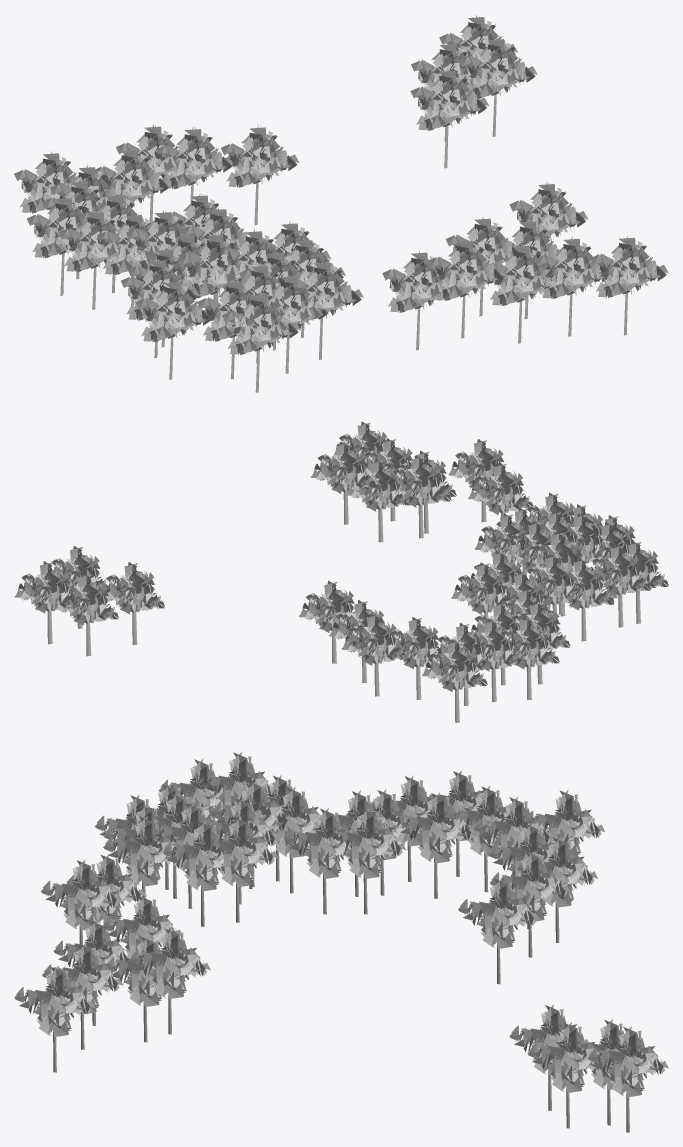
The model's file is small trees.fbx.
3 views of the same model, one above another, from view 1: azimuth 30°, elevation 25°; view 2: azimuth 150°, elevation 25°; view 3: azimuth 270°, elevation 25° (orthographic). The views are drawn at different scales.
Parts seen in each view (by area): view 1: polySurface8035, polySurface10185, polySurface1523, polySurface8506, polySurface9067, polySurface58; view 2: polySurface1523, polySurface8035, polySurface8506, polySurface10185, polySurface9067, polySurface58; view 3: polySurface1523, polySurface8506, polySurface10185, polySurface9067, polySurface8035, polySurface58.
Boxes of the visible parts, box(x1,y1,x2,y2) form: polySurface8035: box(382, 15, 537, 350); polySurface10185: box(445, 182, 668, 343); polySurface1523: box(14, 124, 299, 225); polySurface8506: box(121, 221, 345, 379); polySurface9067: box(27, 193, 247, 309); polySurface58: box(201, 259, 363, 392); polySurface1523: box(299, 581, 509, 722); polySurface8035: box(14, 439, 532, 656); polySurface8506: box(474, 507, 668, 641); polySurface10185: box(310, 421, 457, 542); polySurface9067: box(451, 551, 570, 702); polySurface58: box(527, 492, 641, 605); polySurface1523: box(458, 785, 604, 984); polySurface8506: box(158, 752, 319, 926); polySurface10185: box(14, 895, 210, 1072); polySurface9067: box(302, 770, 499, 914); polySurface8035: box(41, 854, 668, 1132); polySurface58: box(94, 783, 216, 908).
Size of the model in its own units: 7746 by 1712 by 7056.
